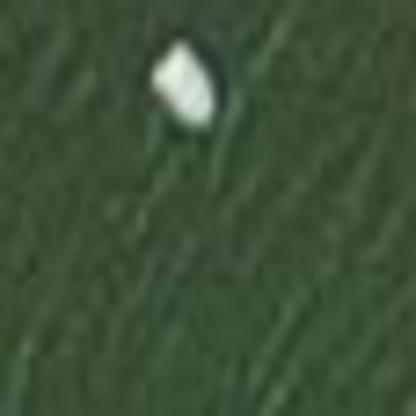ship: (138, 30, 228, 145)
